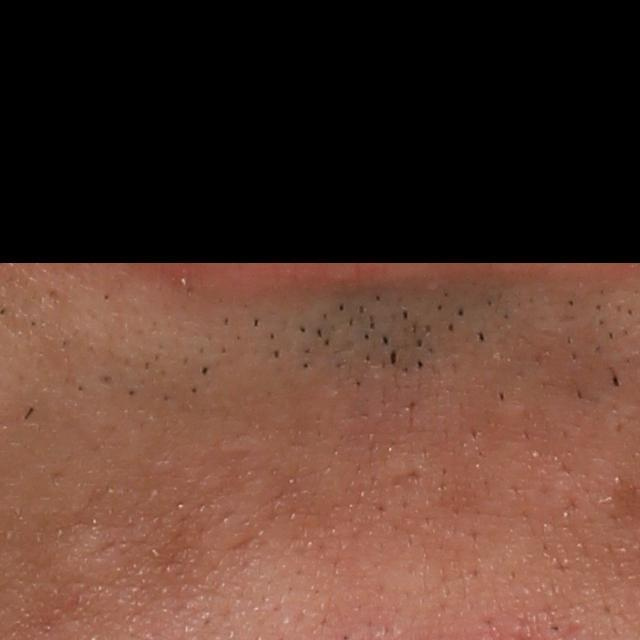atrophic_scar: (388, 466, 422, 493)
hypertrophic_scar: (50, 528, 130, 597)
